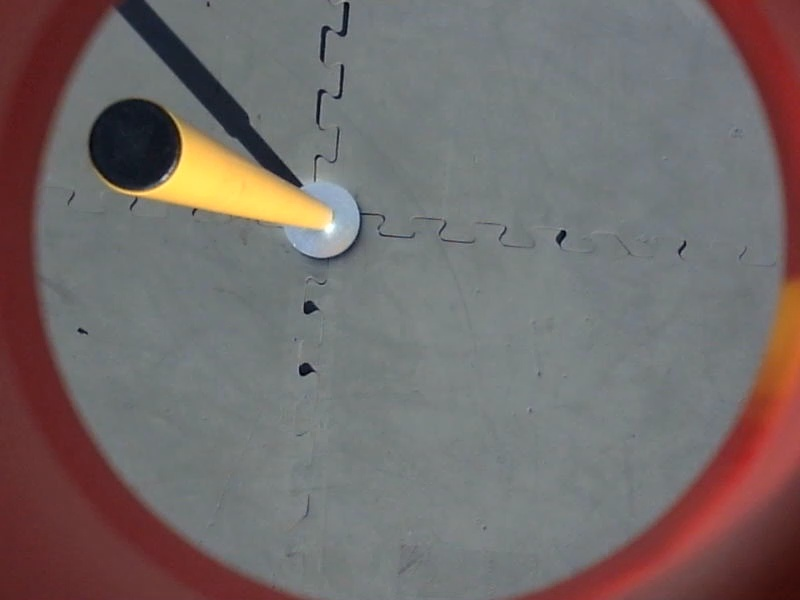tip: (83, 96, 190, 202)
